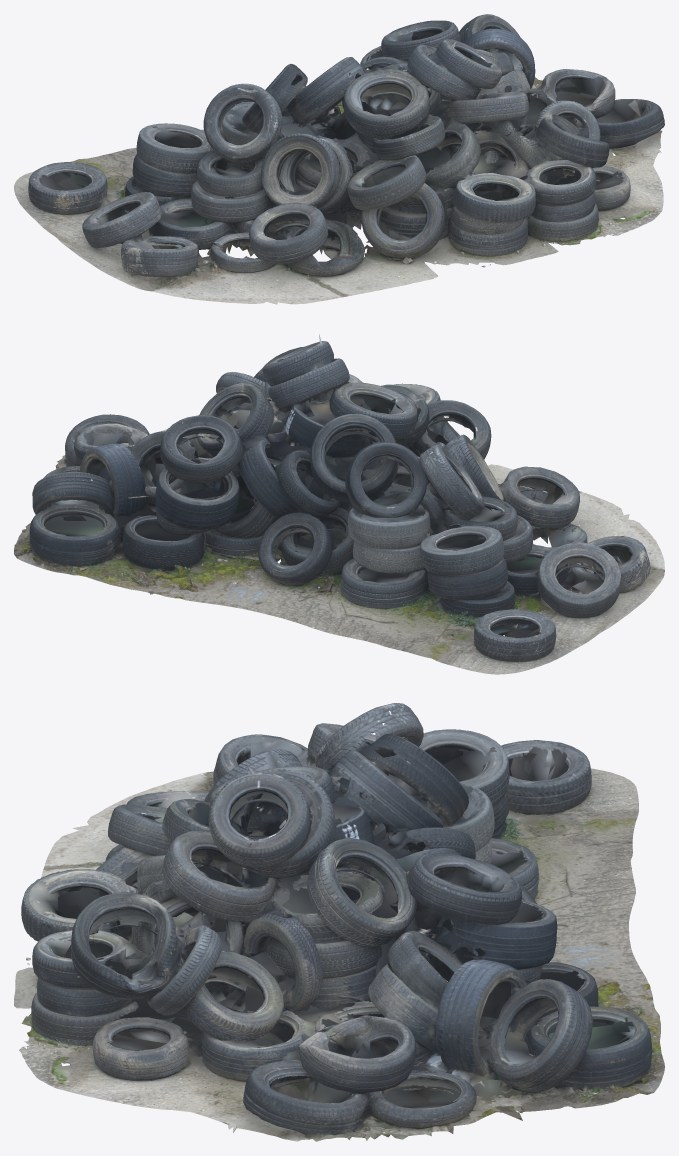
Rendered from pile_of_old_tires.glb.
The picture shows the model from 3 angles, top to bottom: view 1: azimuth 30°, elevation 25°; view 2: azimuth 150°, elevation 25°; view 3: azimuth 270°, elevation 25°; orthographic projection. The views are drawn at different scales.
Parts seen in each view (by area): view 1: tires2; view 2: tires2; view 3: tires2.
Part boxes in pixels (<box>): tires2: <box>14,14,664,304</box>; tires2: <box>14,334,664,674</box>; tires2: <box>14,703,664,1141</box>.
Bounding box in the file's own units: 5.31 × 1.51 × 3.71.
Materials: 4 (4 with a texture image).
